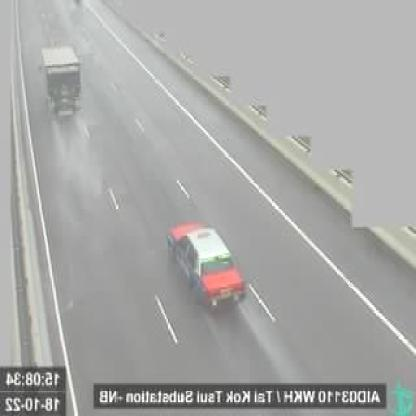Car: (166, 218, 246, 314)
Truck: (40, 46, 83, 126)
